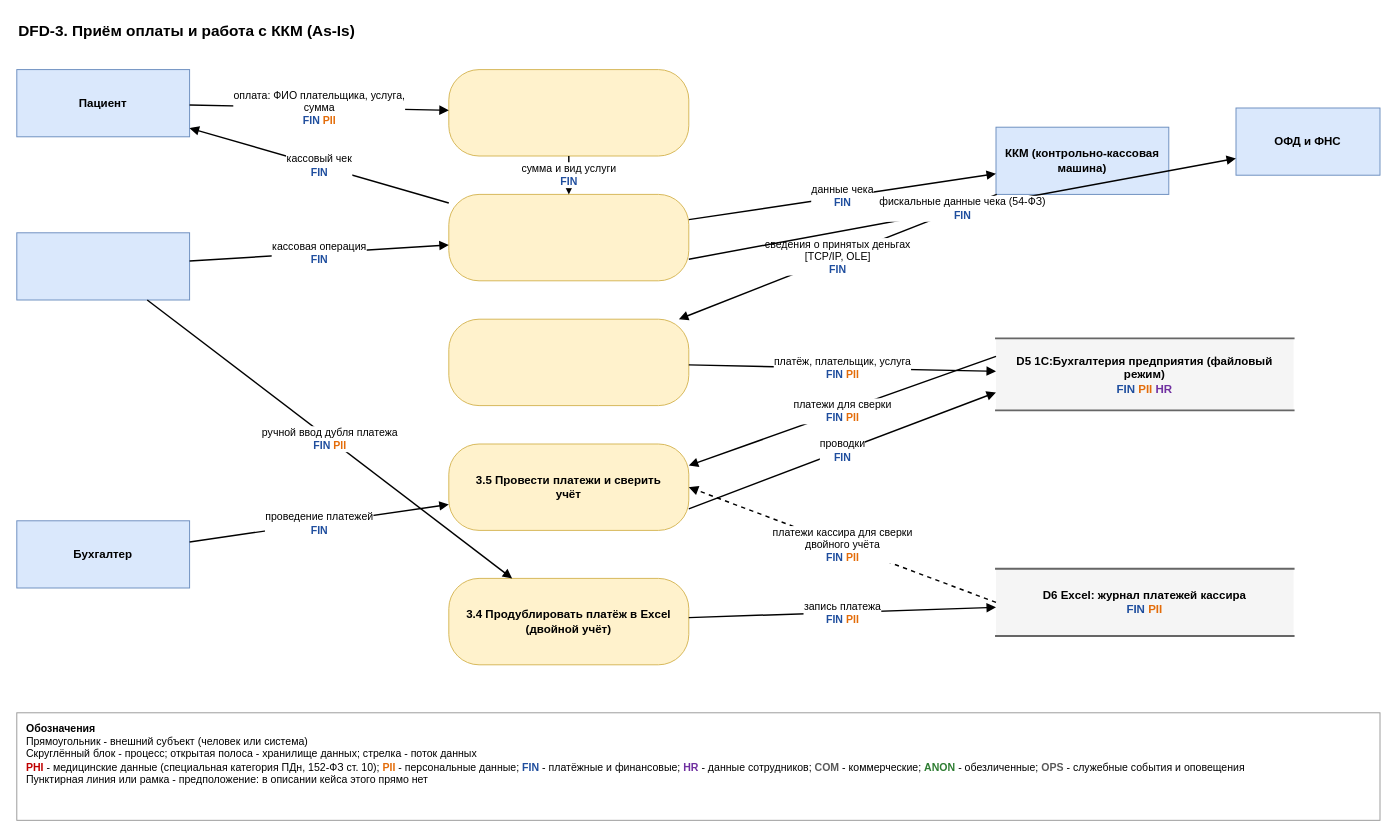
This 1397x837 diagram has some shape labels left out. The shapes that lost their labels are listed below. From the top down, each one's centre as x and y in pixels, then its label:
At (x=568, y=112): "3.1 Принять оплату за услугу".
At (x=568, y=237): "3.2 Пробить чек на ККМ".
At (x=103, y=266): "Кассир".
At (x=568, y=362): "3.3 Передать платёж в 1С:Бухгалтерия".
